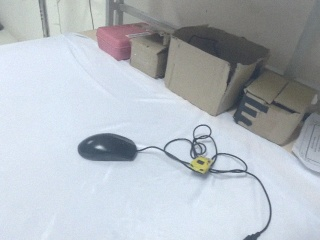box: (163, 23, 268, 117), (232, 66, 315, 147), (130, 32, 170, 79)
mouse: (78, 132, 138, 162)
toy_car: (188, 154, 212, 177)
